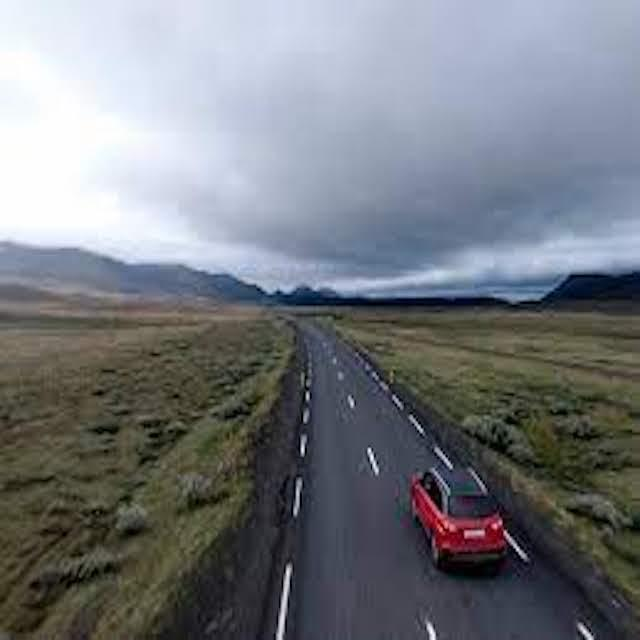car: (409, 467, 505, 572)
